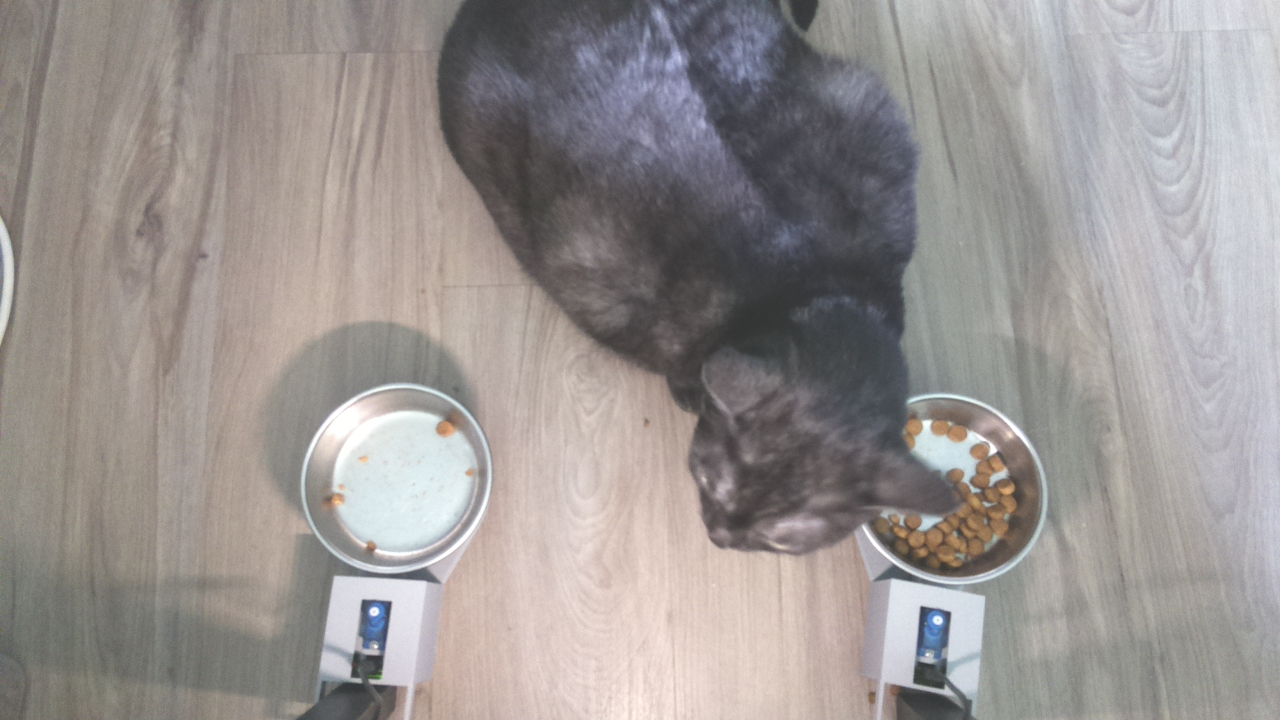open_bowl: (298, 380, 490, 580), (894, 397, 1049, 591)
saki: (636, 314, 958, 556)
